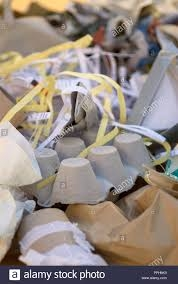paper: (1, 64, 127, 153), (74, 184, 178, 267), (18, 208, 100, 275)
plastic: (18, 118, 158, 207)
